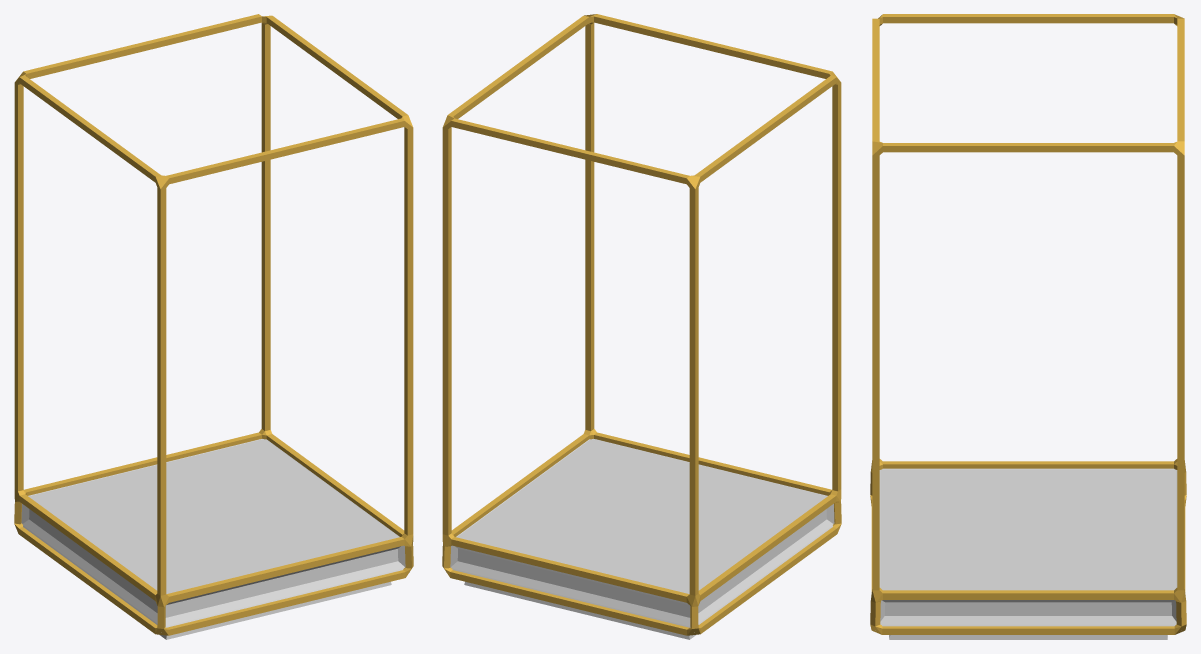
File: PlatformSquareCageLong.fbx
The picture shows the model from 3 angles, left to right: view 1: azimuth 30°, elevation 25°; view 2: azimuth 150°, elevation 25°; view 3: azimuth 270°, elevation 25°; orthographic projection. The views are drawn at different scales.
Parts seen in each view (by area): view 1: PlatformBar.002; view 2: PlatformBar.002; view 3: PlatformBar.002.
Part boxes in pixels (x1,y1,x2,y2): PlatformBar.002: (14,14,413,639); PlatformBar.002: (442,14,841,639); PlatformBar.002: (870,14,1186,639).
Size of the model in its own units: 413 by 766 by 413.
